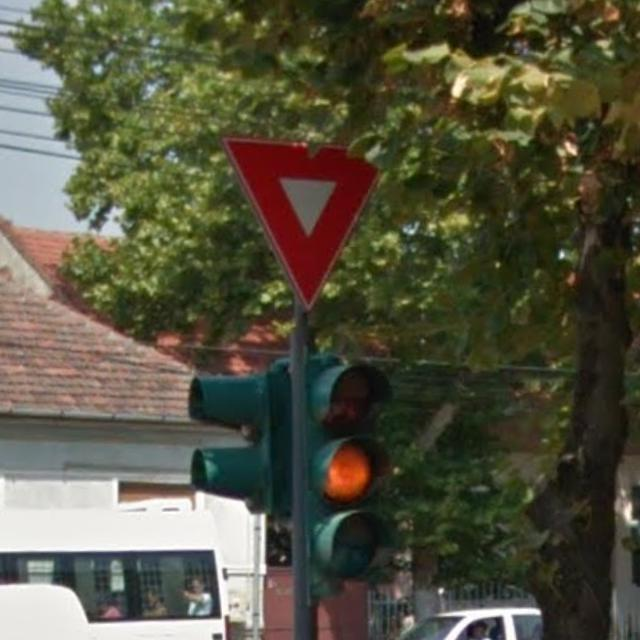prio_give_way: (214, 128, 385, 310)
